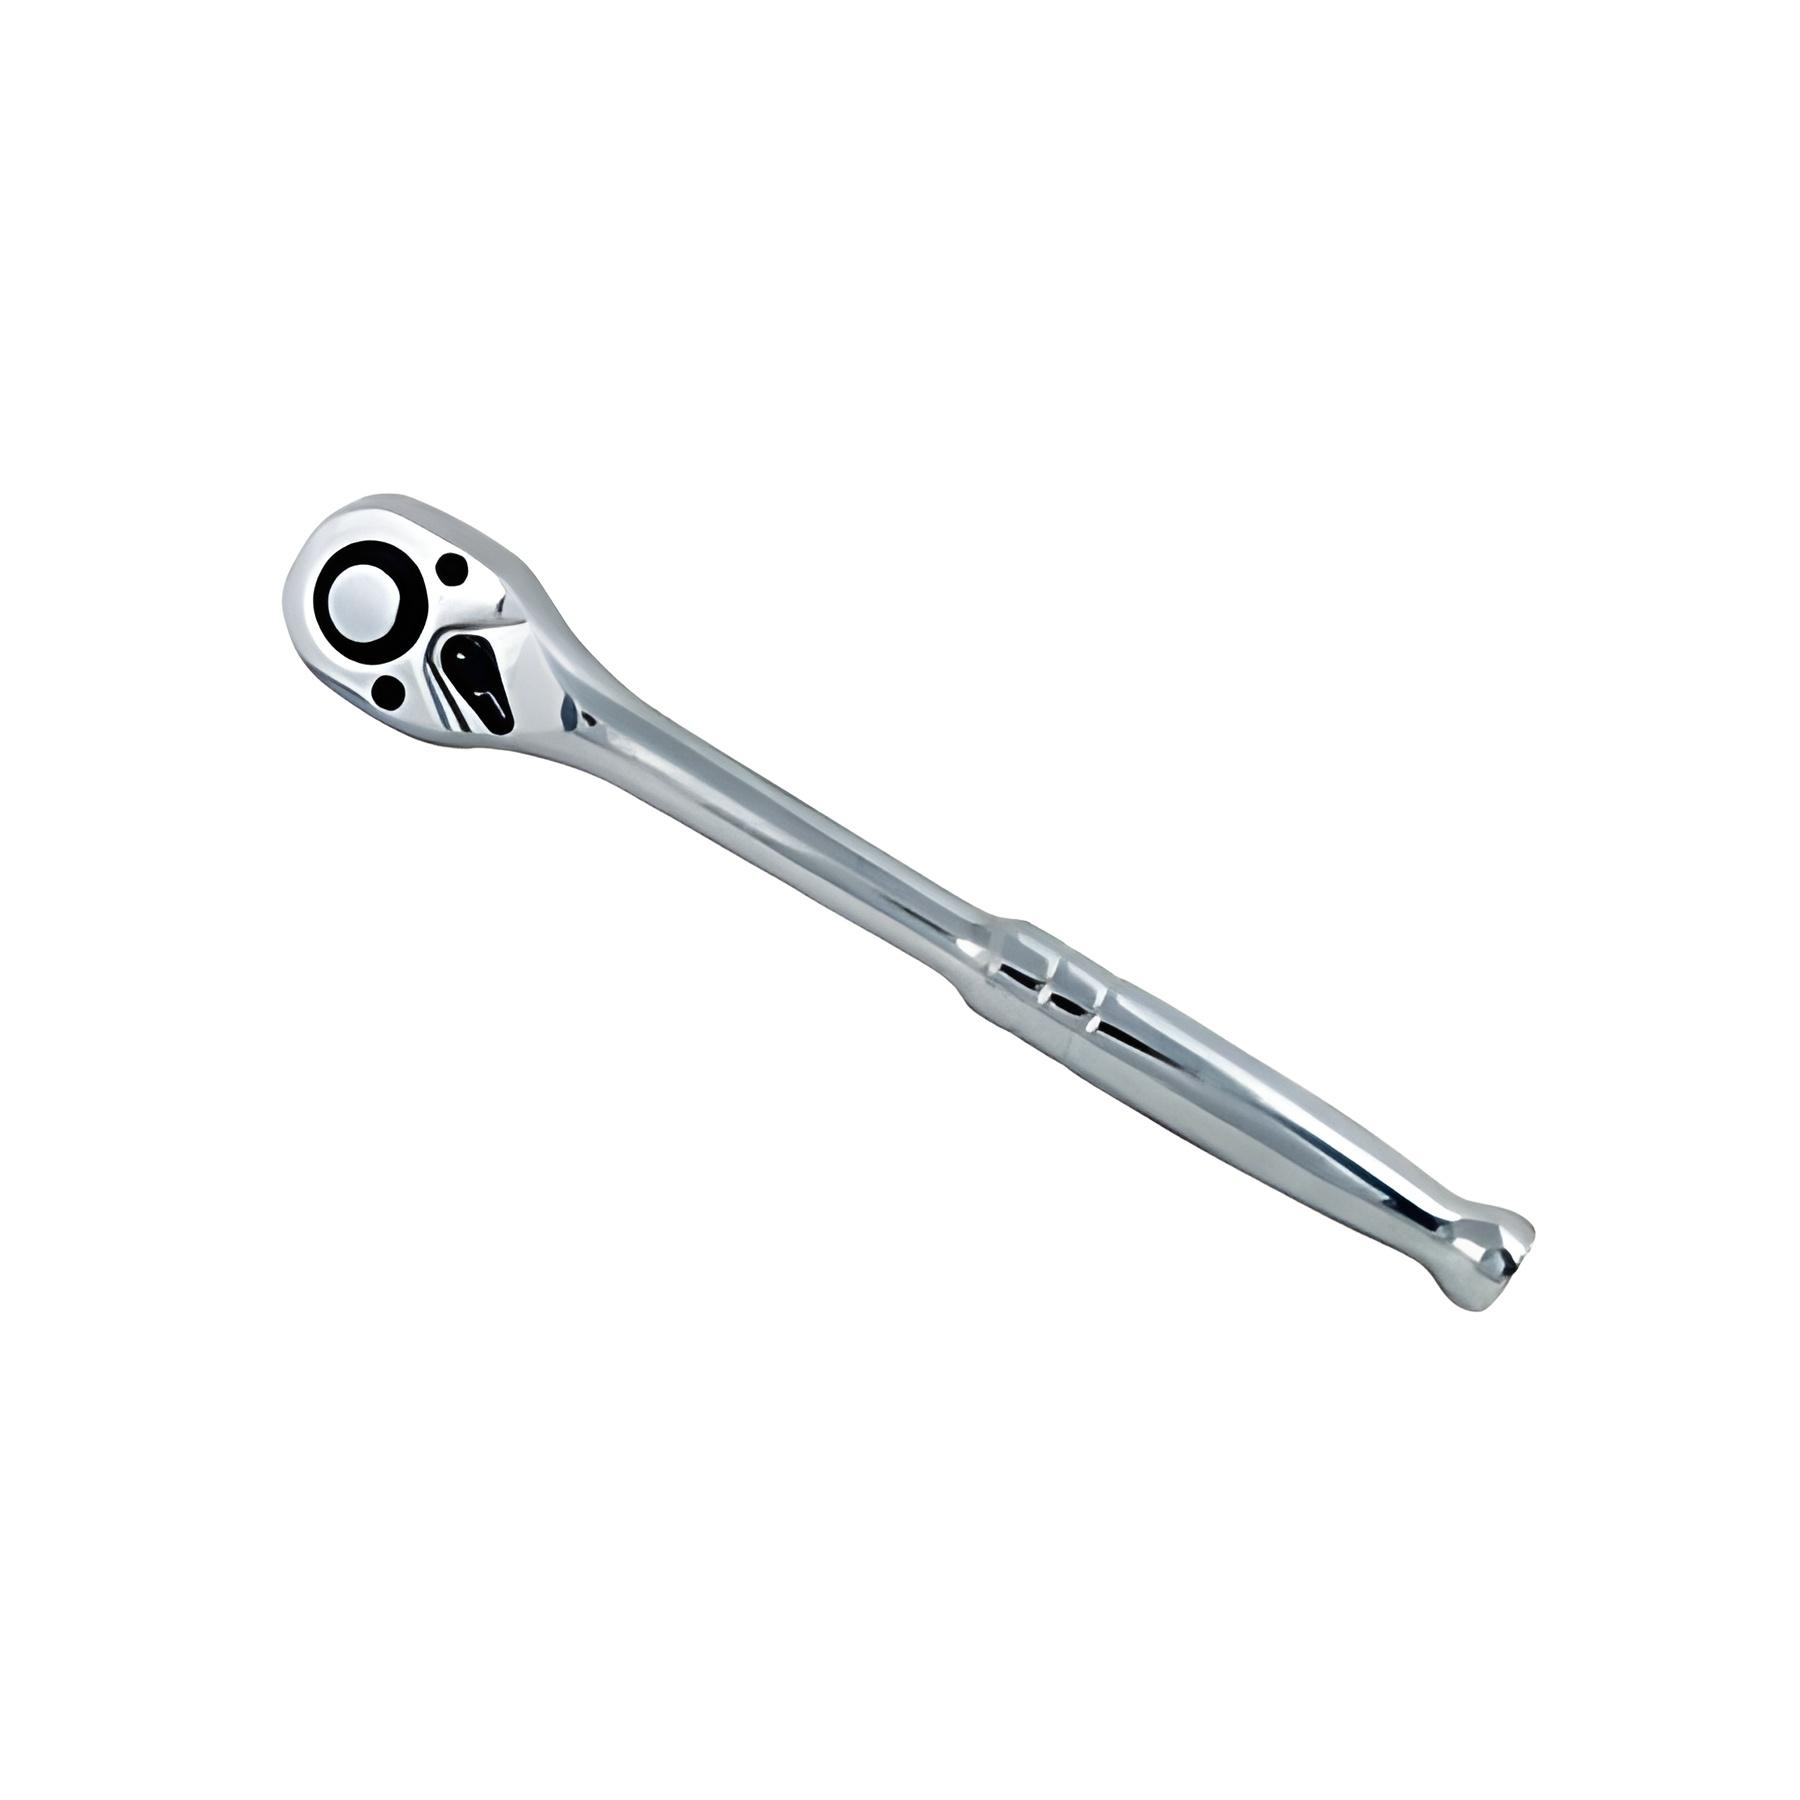Tool: (277, 485, 580, 776)
